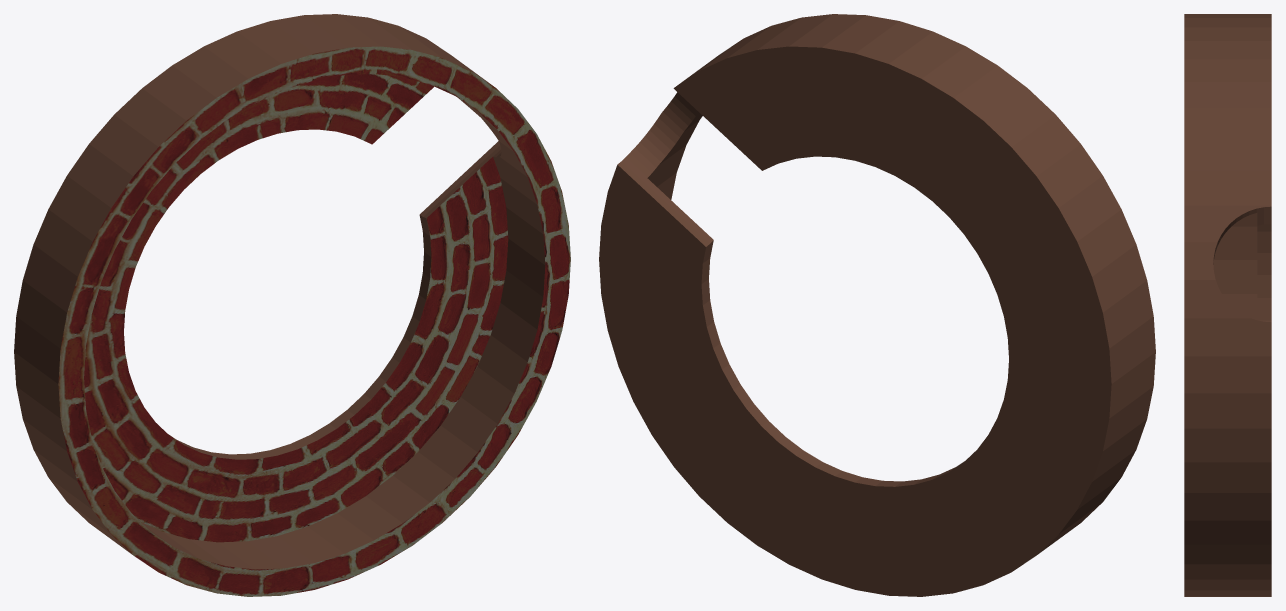
The model's file is pool_062.obj.
3 renders of one model, left to right at view 1: azimuth 30°, elevation 25°; view 2: azimuth 150°, elevation 25°; view 3: azimuth 270°, elevation 25°, orthographic.
Bounding box in the file's own units: 20 × 20 × 3.
